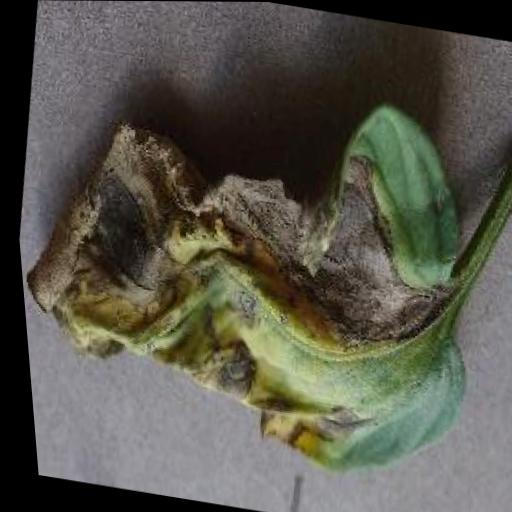Early Blight: (3, 50, 511, 492)
